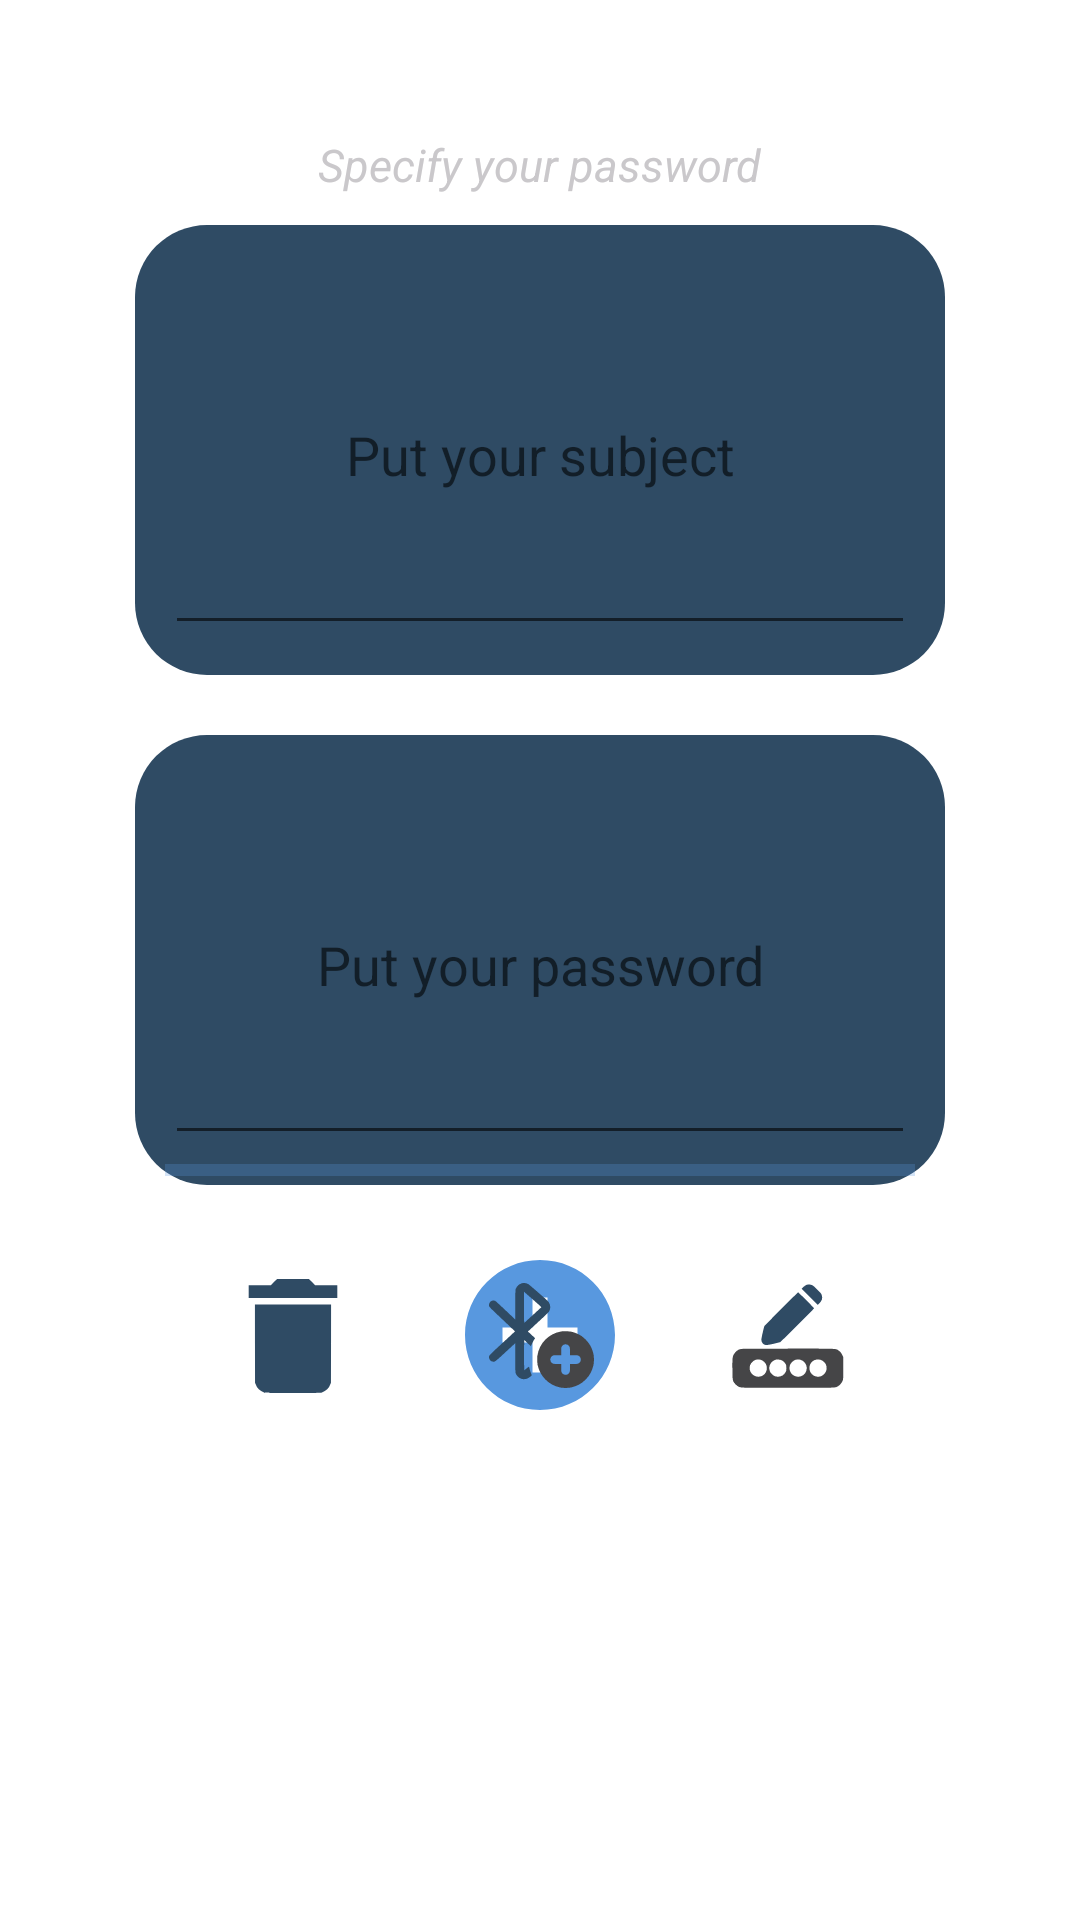

Icon click points for this 1080px×1920px phone screenshot, format [x,y]:
editpass: [788,1336]
